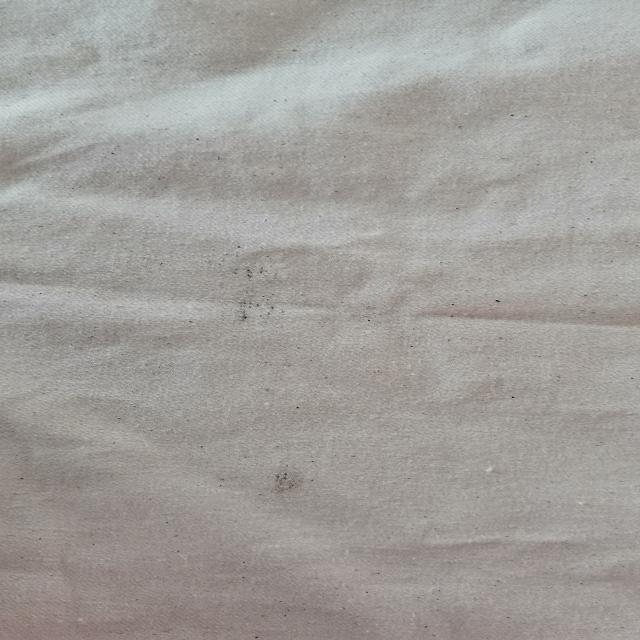taaaches: (257, 466, 352, 508), (208, 282, 284, 332)
